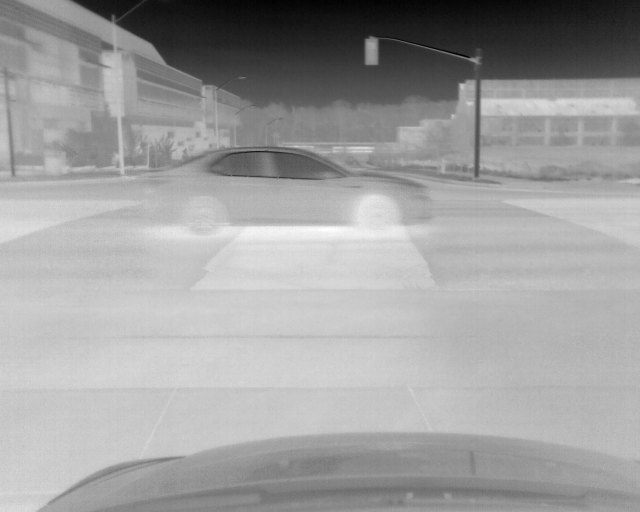car: (138, 144, 434, 236)
